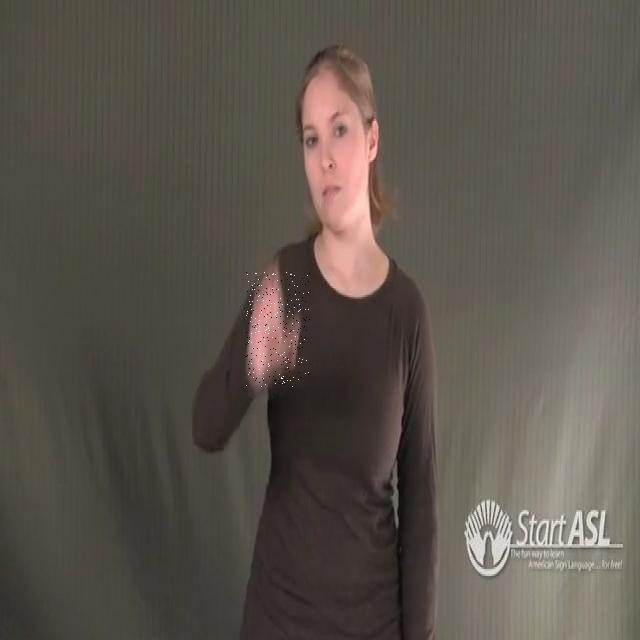drink: (246, 272, 310, 387)
